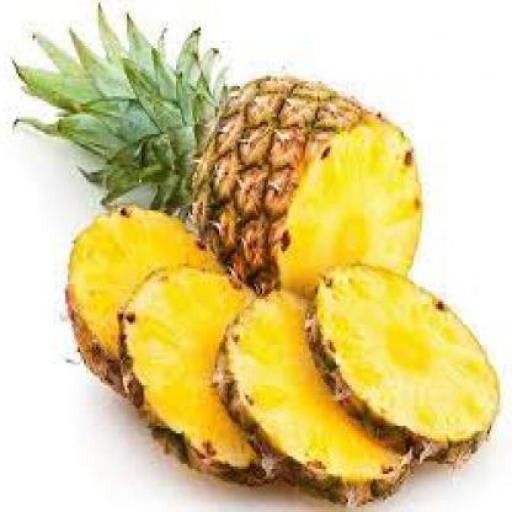biodegradable: (193, 68, 424, 302), (14, 0, 233, 218), (211, 284, 415, 510), (307, 258, 502, 466), (117, 261, 284, 487), (65, 201, 228, 395)
